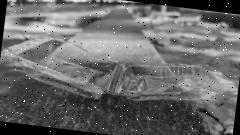plastic: (0, 30, 240, 117)
